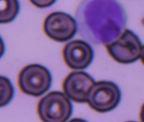L: (74, 0, 128, 46)
